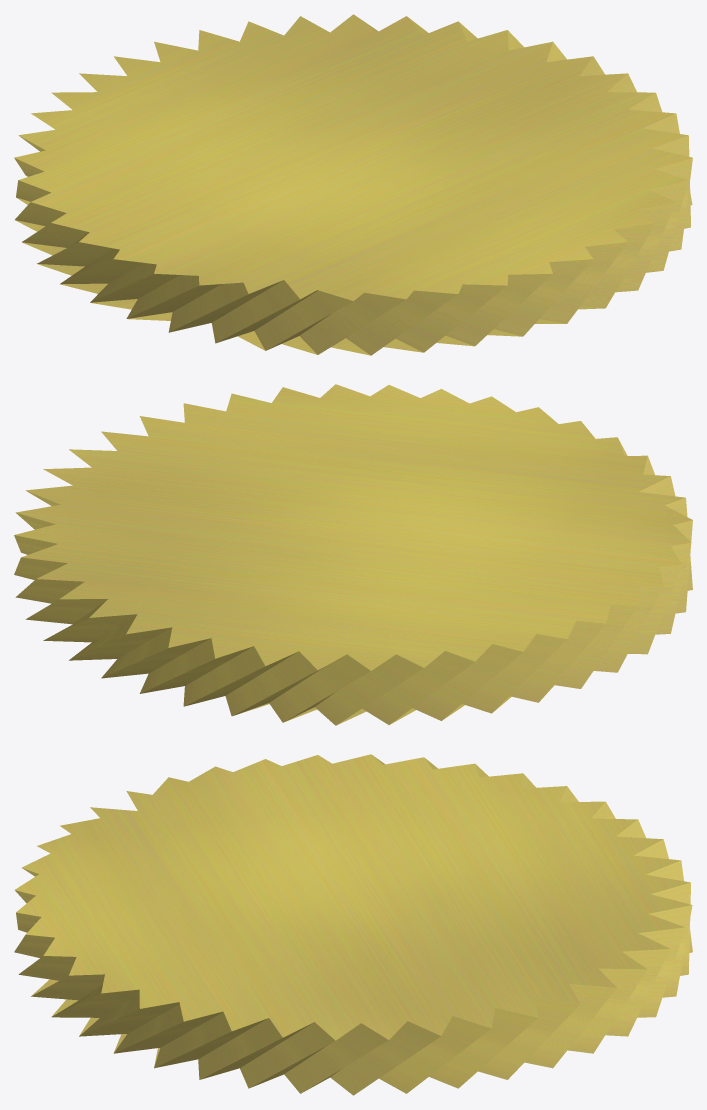
File: ClockStraightSpiral040.fbx
The picture shows the model from 3 angles, top to bottom: view 1: azimuth 30°, elevation 25°; view 2: azimuth 150°, elevation 25°; view 3: azimuth 270°, elevation 25°; orthographic projection.
Parts seen in each view (by area): view 1: ClockStraightSpiral040; view 2: ClockStraightSpiral040; view 3: ClockStraightSpiral040.
Part boxes in pixels (box(x1,y1,x2,y2)): ClockStraightSpiral040: box(14, 14, 692, 355); ClockStraightSpiral040: box(14, 384, 692, 725); ClockStraightSpiral040: box(14, 754, 692, 1095).
Bounding box in the file's own units: 221 × 19.69 × 221.
